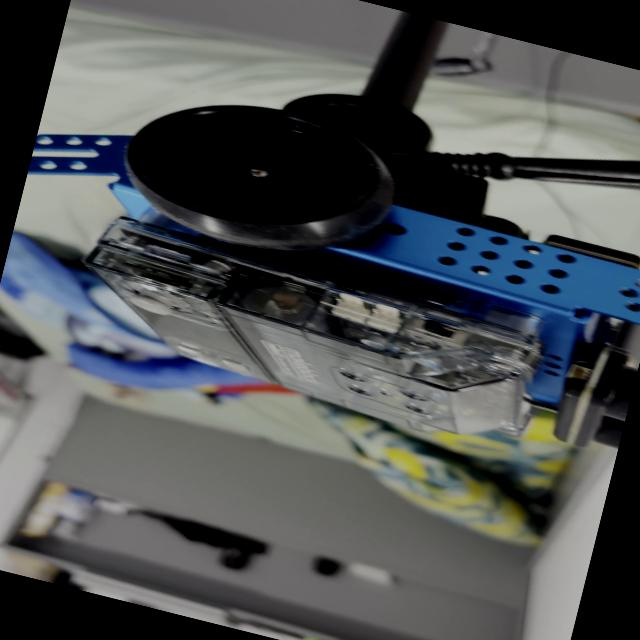mbot-detection: (0, 47, 640, 484)
